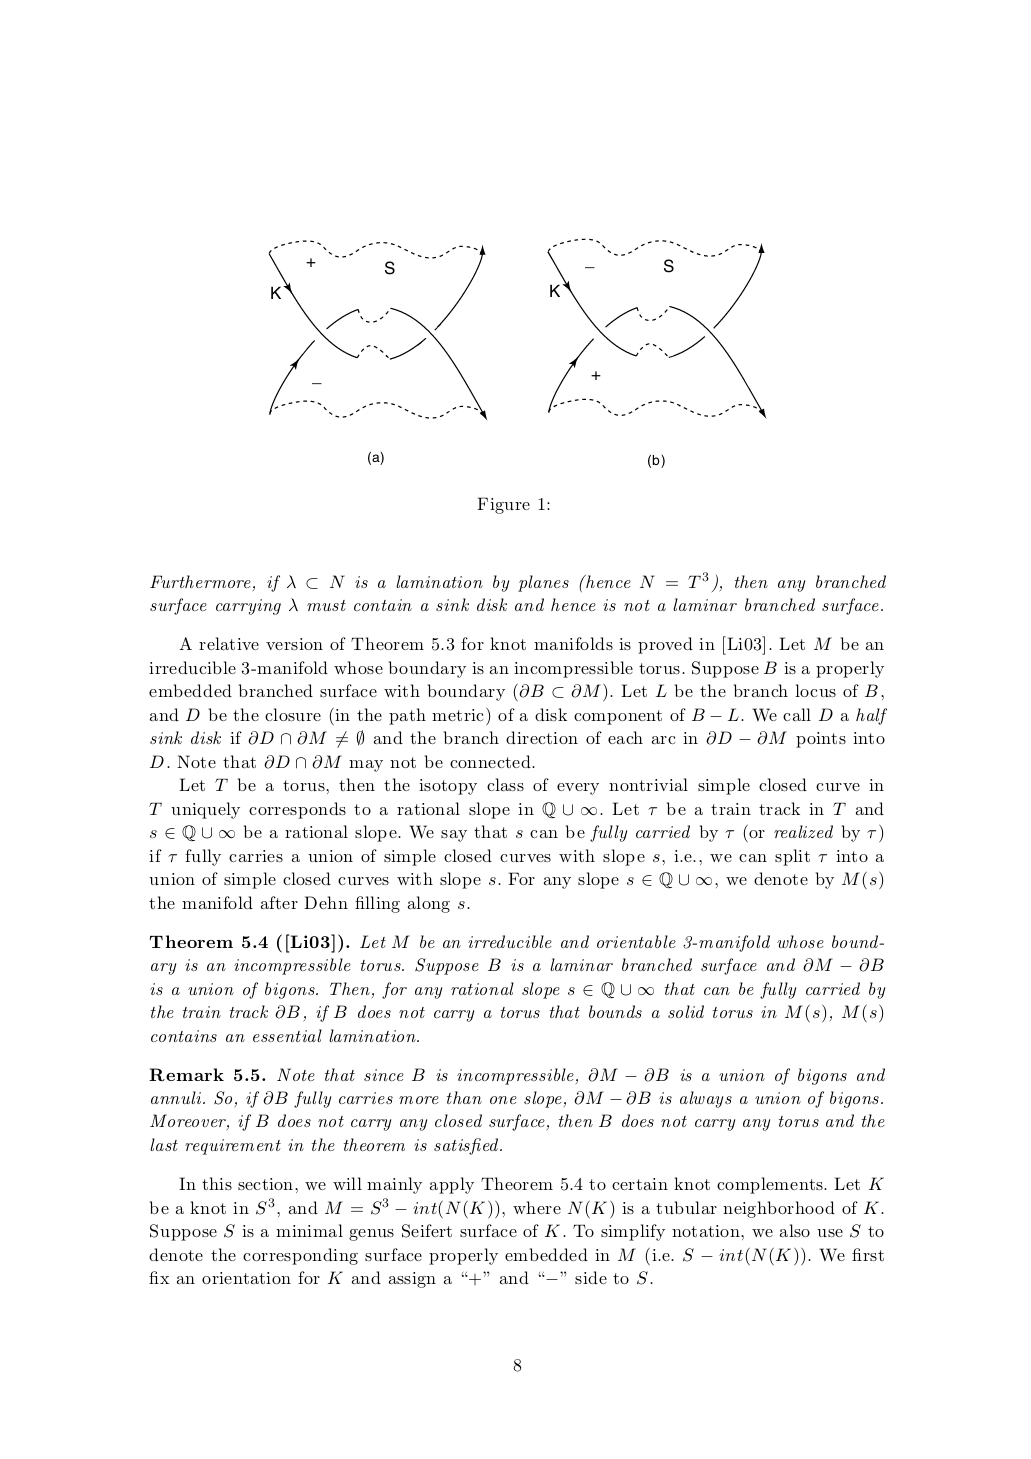figure: (547, 238, 767, 418), (268, 240, 486, 421)
